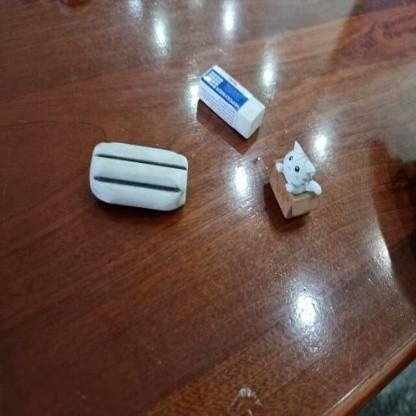not trash: (90, 141, 188, 211), (199, 64, 265, 140), (270, 140, 322, 219)
